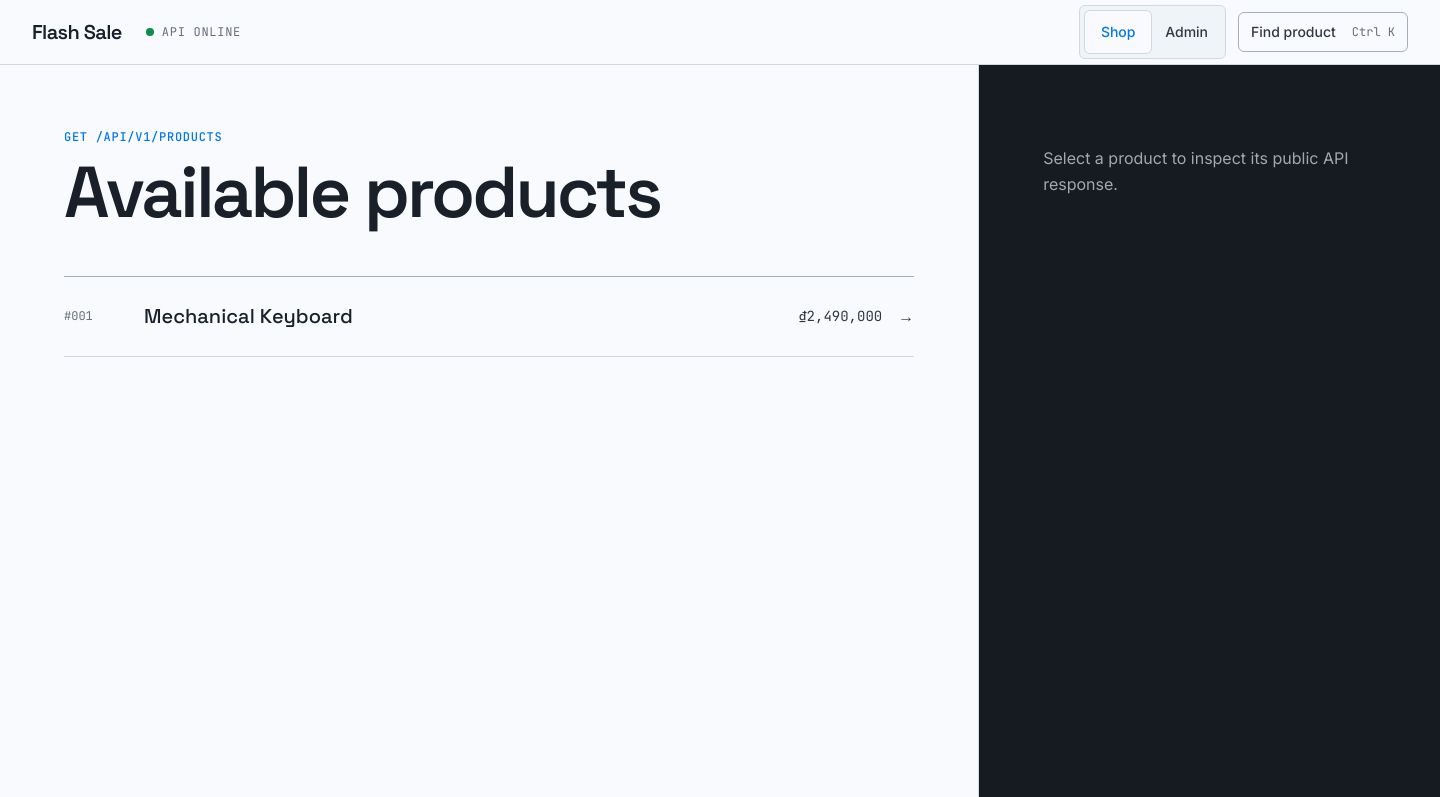
it: App › shows the RFC 9457 reason when an Order is rejected
Click the button "#001 Mechanical Keyboard ₫2,490,000 →".
click(248, 316)  # box [64, 276, 914, 356]
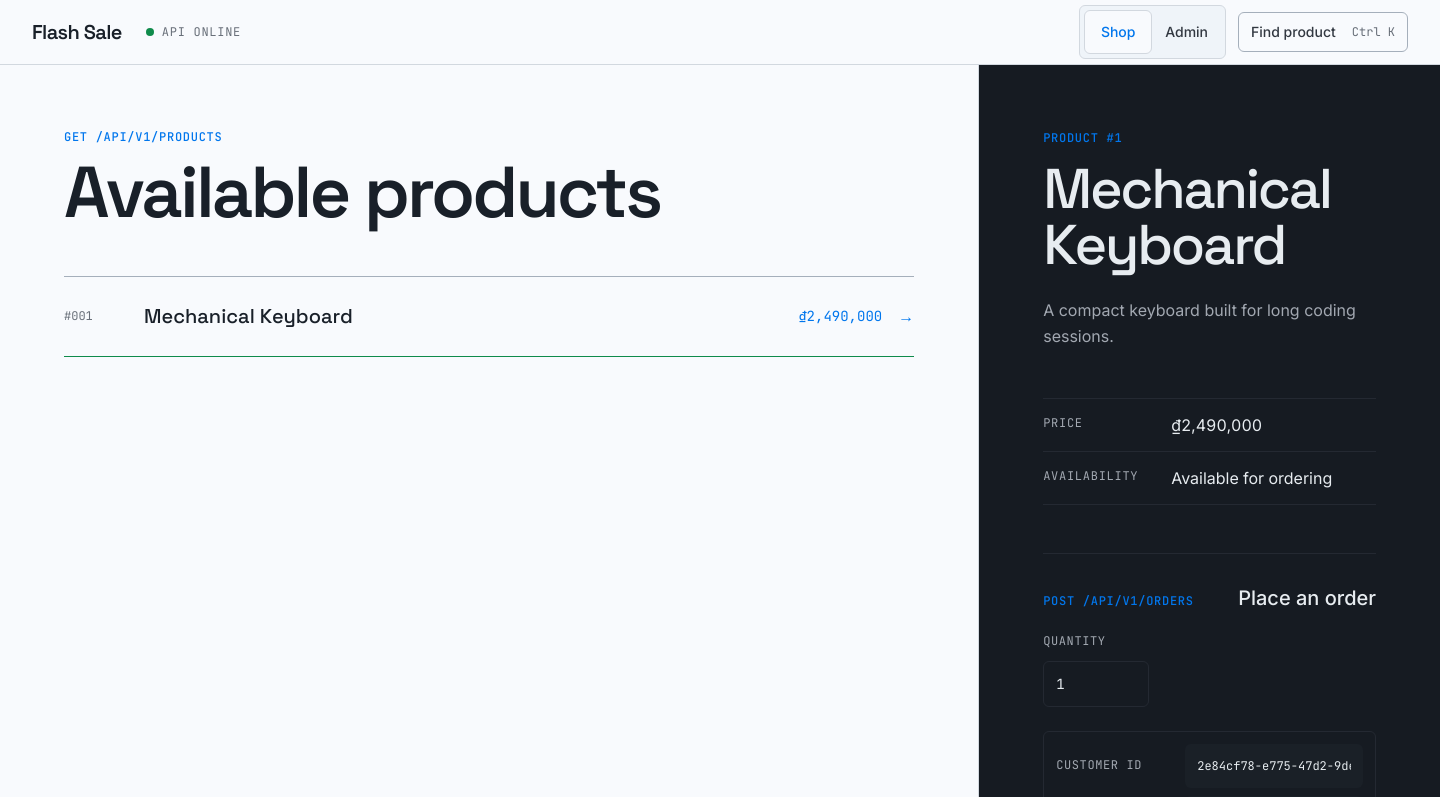
Replace the text in the number field labelled "Quantity" with "5" at (1096, 684), box [1043, 661, 1149, 707]
(page scrolled)
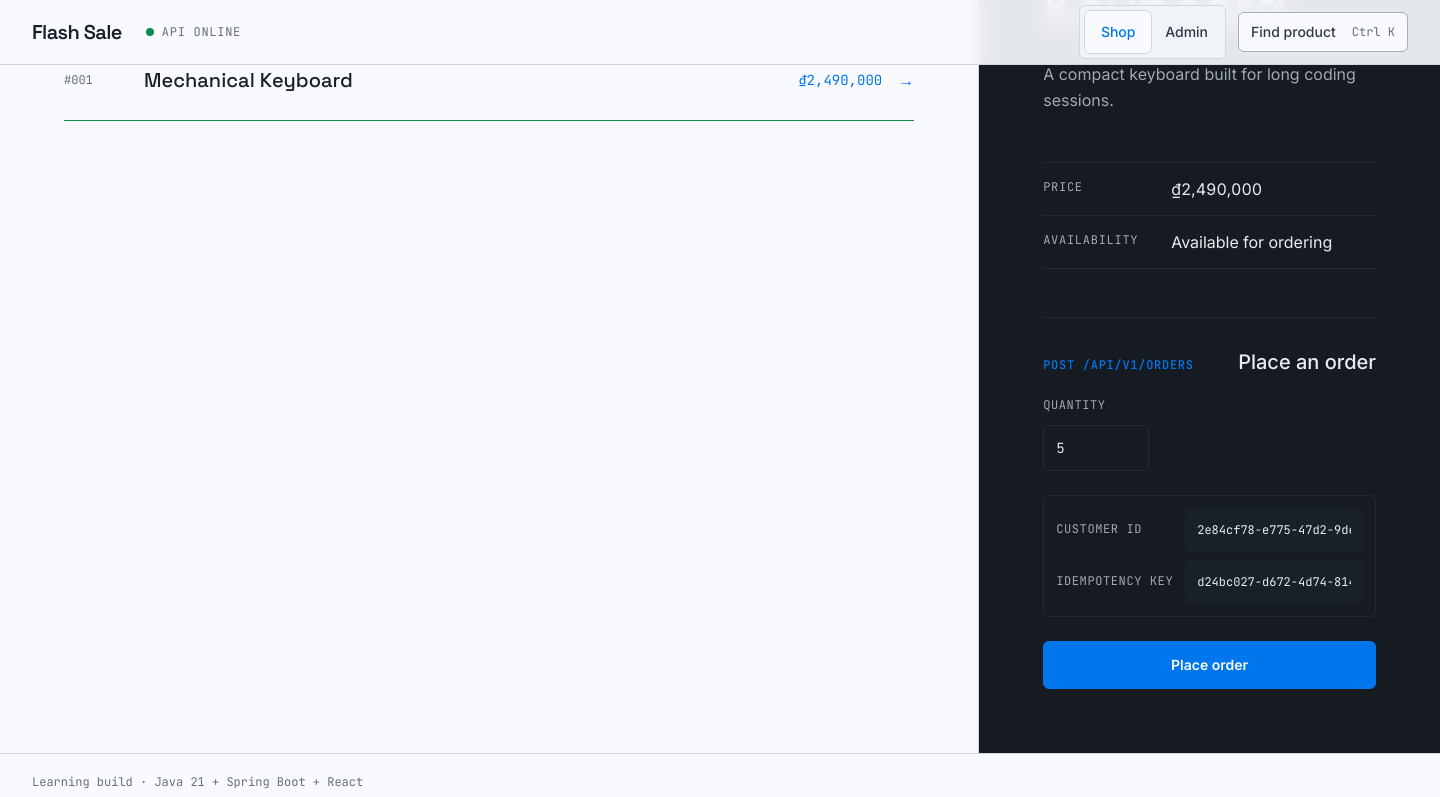
Click the button "Place order".
click(1210, 665)  # box [1043, 641, 1376, 689]
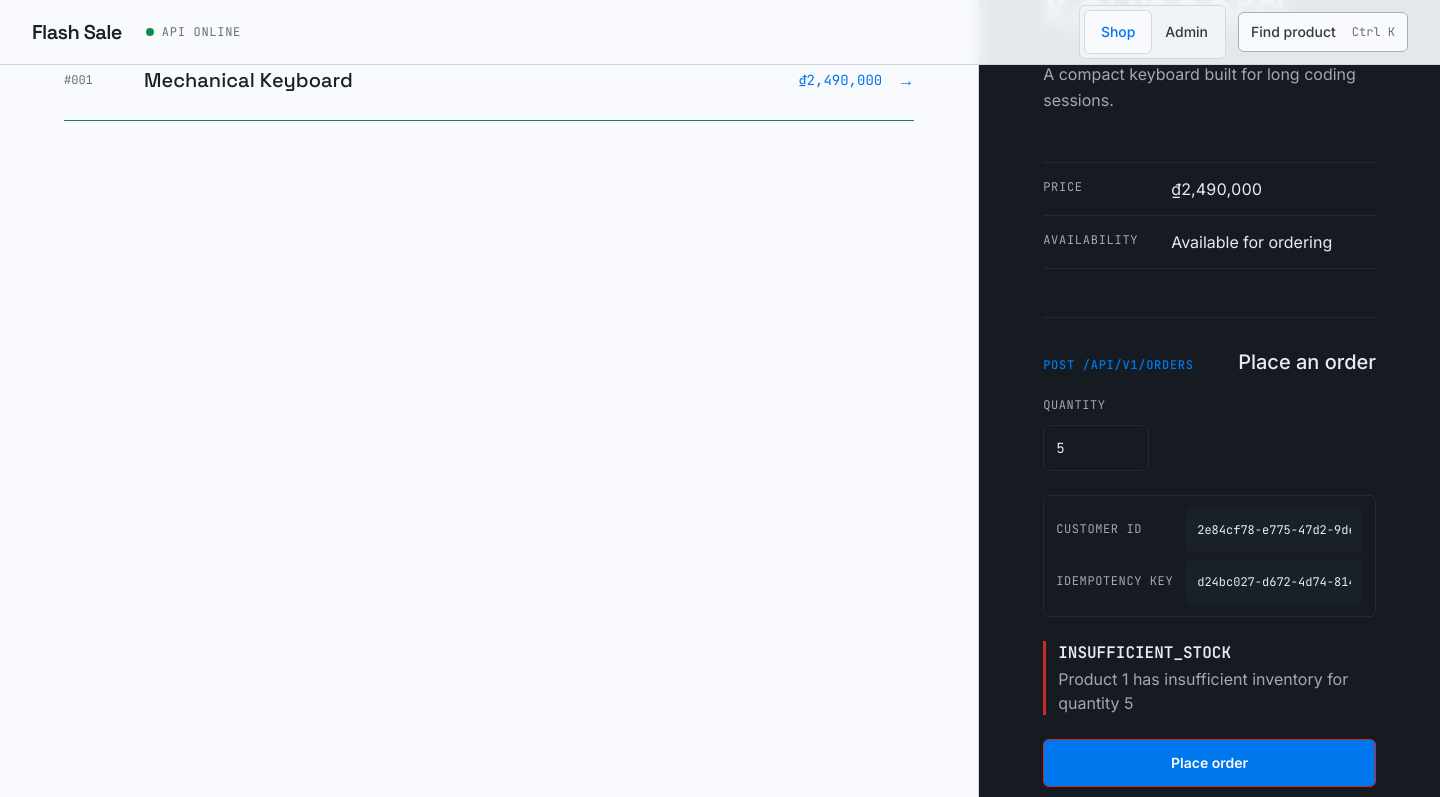
Now the message shows "INSUFFICIENT_STOCK", box [1058, 642, 1231, 663]
Now the message shows "Product 1 has insufficient inventory for quantity 5", box [1058, 669, 1348, 713]
